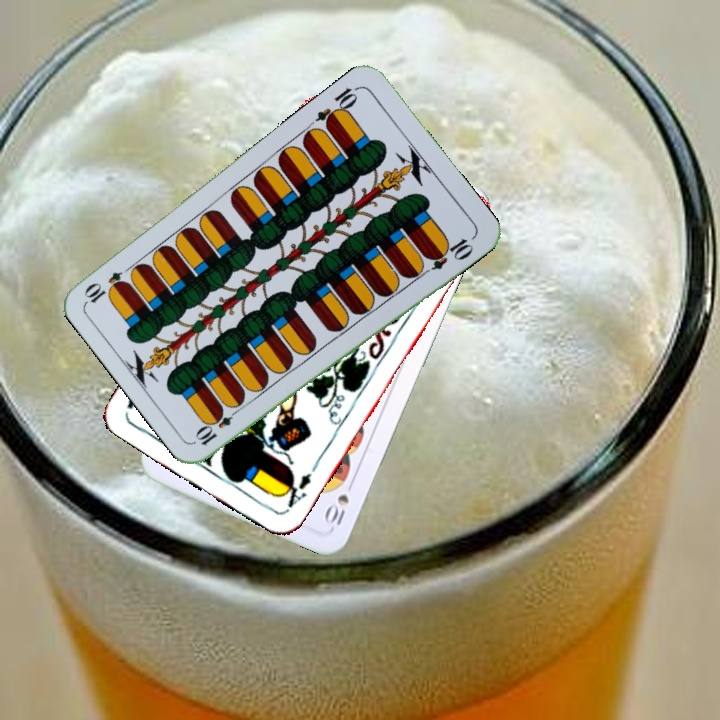E10: (312, 82, 362, 131), (192, 402, 244, 448)
EA: (277, 468, 314, 515)
S10: (321, 475, 357, 528)
